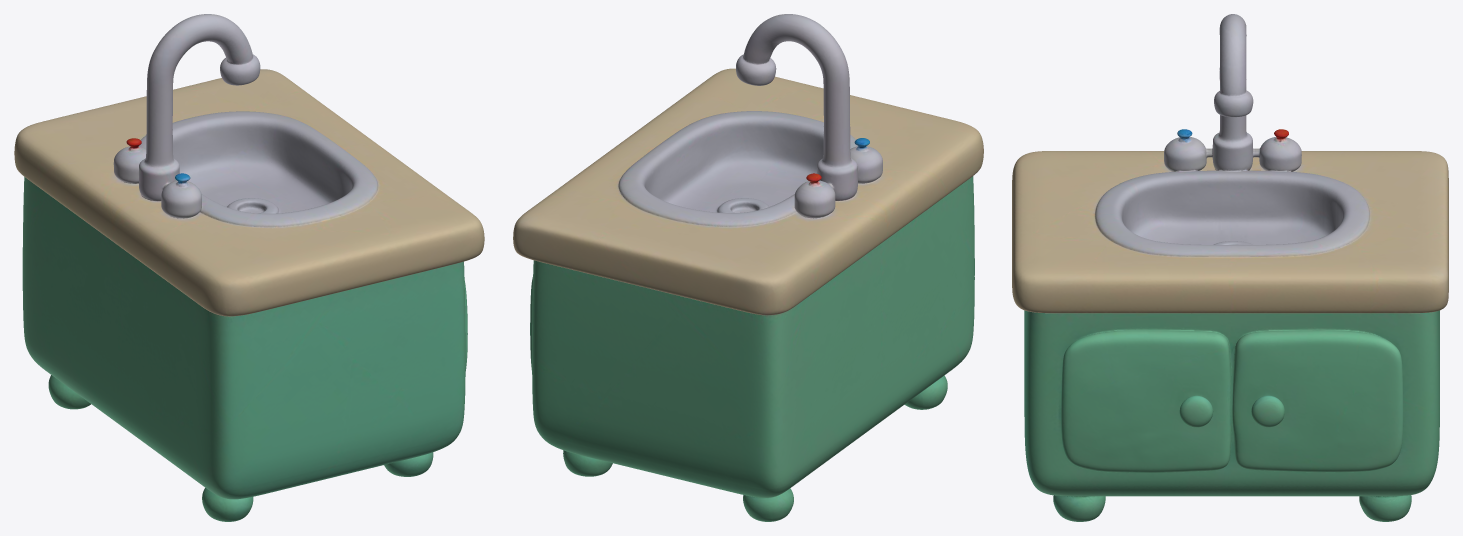
File: SinkStation.glb
3 renders of one model, left to right at view 1: azimuth 30°, elevation 25°; view 2: azimuth 150°, elevation 25°; view 3: azimuth 270°, elevation 25°, orthographic.
Parts seen in each view (by area): view 1: tripo_node_cdd59720-d561-45d3-a7b3-74109386610b; view 2: tripo_node_cdd59720-d561-45d3-a7b3-74109386610b; view 3: tripo_node_cdd59720-d561-45d3-a7b3-74109386610b.
Boxes of the visible parts, x1,y1,x2,y2 form: tripo_node_cdd59720-d561-45d3-a7b3-74109386610b: (14,14,484,521); tripo_node_cdd59720-d561-45d3-a7b3-74109386610b: (513,14,983,521); tripo_node_cdd59720-d561-45d3-a7b3-74109386610b: (1012,14,1448,521).
Bounding box in the file's own units: 0.6999 × 1 × 0.9106.
1 material, 1 textured.
